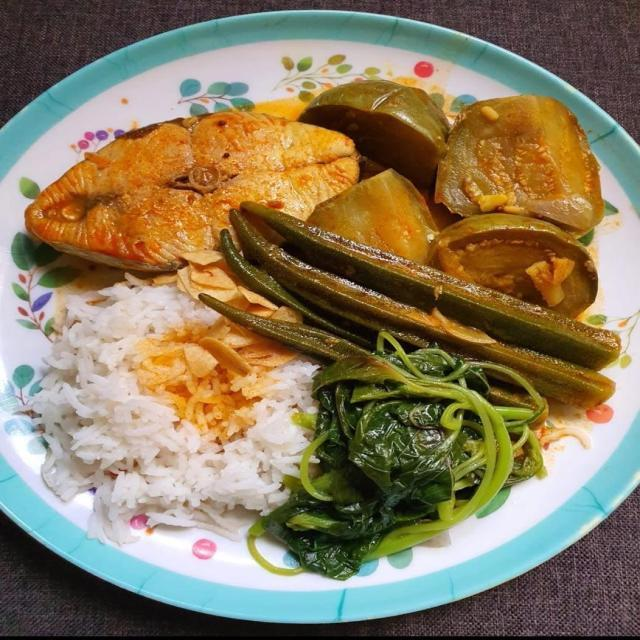Fish: (20, 111, 370, 274)
Plate: (0, 15, 639, 621)
Rice: (13, 268, 325, 548)
Vegetables: (186, 76, 625, 582)
